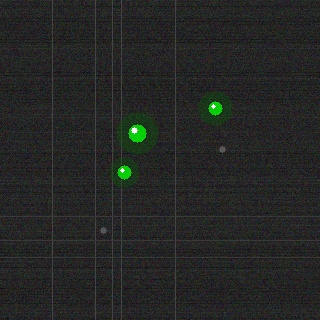green_normal: (126, 122, 148, 144), (206, 99, 224, 117), (115, 163, 133, 181)
